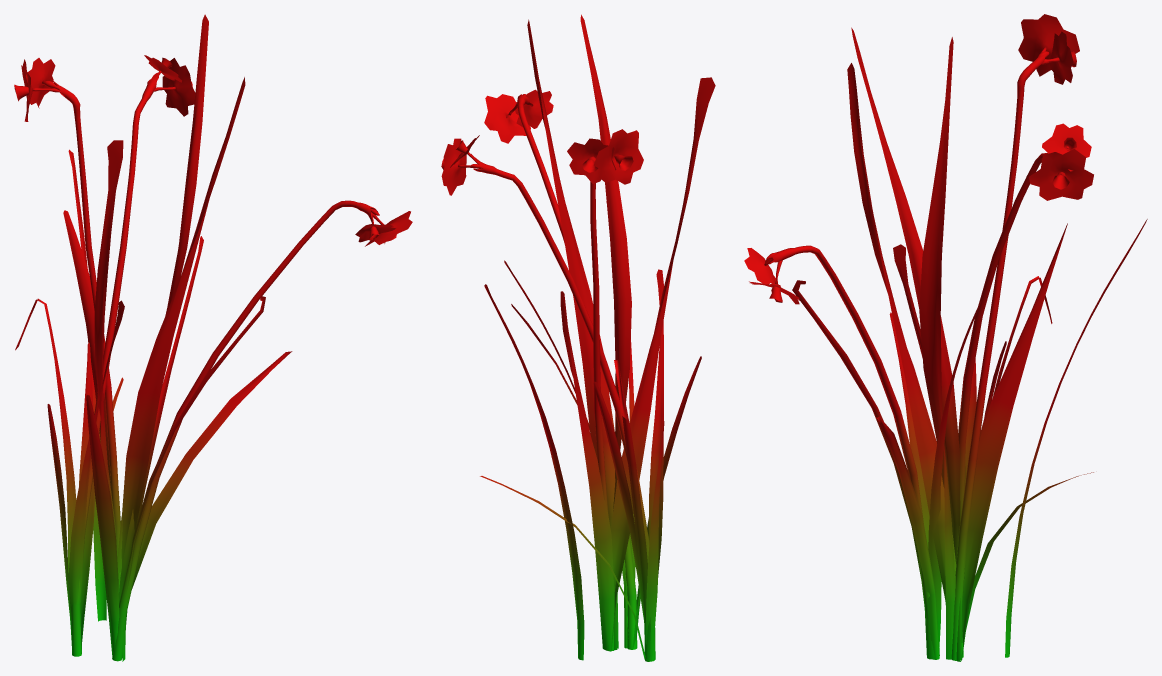
Rendered from Rush Daffodil_LOD1_Var13_wftgfjaia.fbx.
3 renders of one model, left to right at view 1: azimuth 30°, elevation 25°; view 2: azimuth 150°, elevation 25°; view 3: azimuth 270°, elevation 25°, orthographic. The views are drawn at different scales.
Visible parts, largest first — view 1: _bco9_var13_LOD1; view 2: _bco9_var13_LOD1; view 3: _bco9_var13_LOD1.
Boxes of the visible parts, x1,y1,x2,y2 form: _bco9_var13_LOD1: (14,14,412,661); _bco9_var13_LOD1: (441,14,715,661); _bco9_var13_LOD1: (744,14,1147,661).
Bounding box in the file's own units: 18.36 × 39.91 × 21.72.
